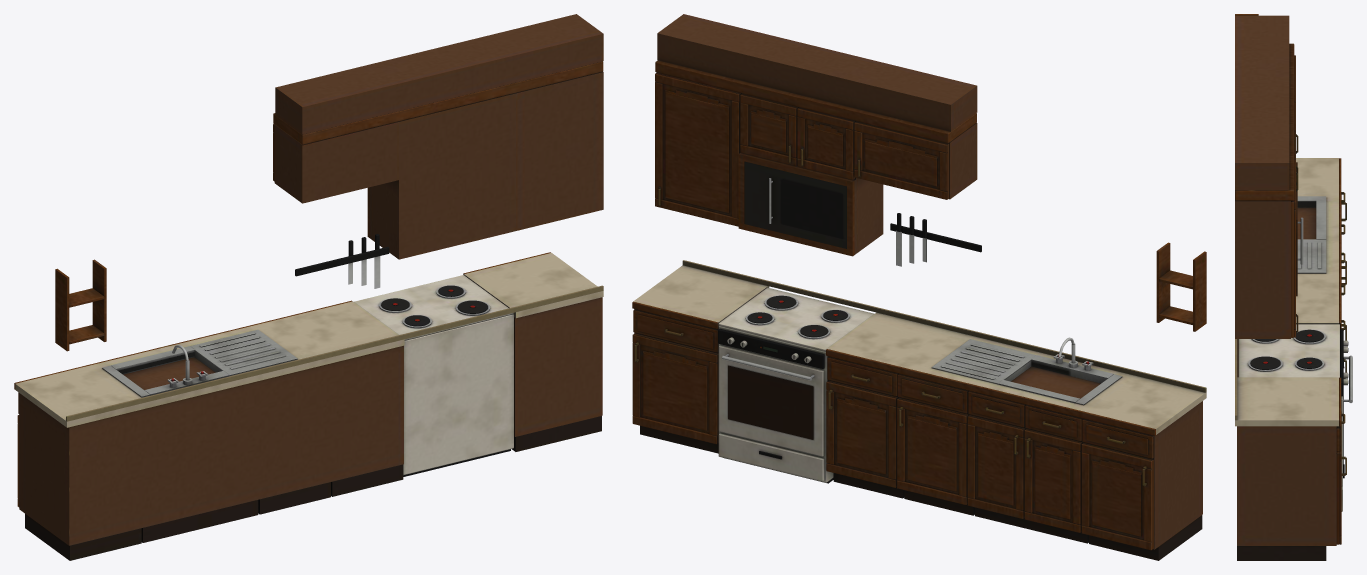
Rendered from kue_zeile.glb.
The picture shows the model from 3 angles, left to right: view 1: azimuth 30°, elevation 25°; view 2: azimuth 150°, elevation 25°; view 3: azimuth 270°, elevation 25°; orthographic projection. The views are drawn at different scales.
Visible parts, largest first — view 1: kue_zeile; view 2: kue_zeile; view 3: kue_zeile.
Part boxes in pixels (box(x1,y1,x2,y2)): kue_zeile: box(14, 14, 603, 560); kue_zeile: box(632, 14, 1206, 560); kue_zeile: box(1235, 14, 1352, 560).
Bounding box in the file's own units: 3.67 × 2.6 × 0.696.
1 material, 1 textured.
